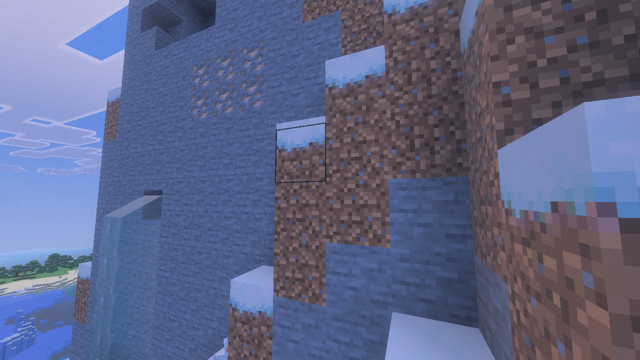iron: (189, 39, 267, 123)
